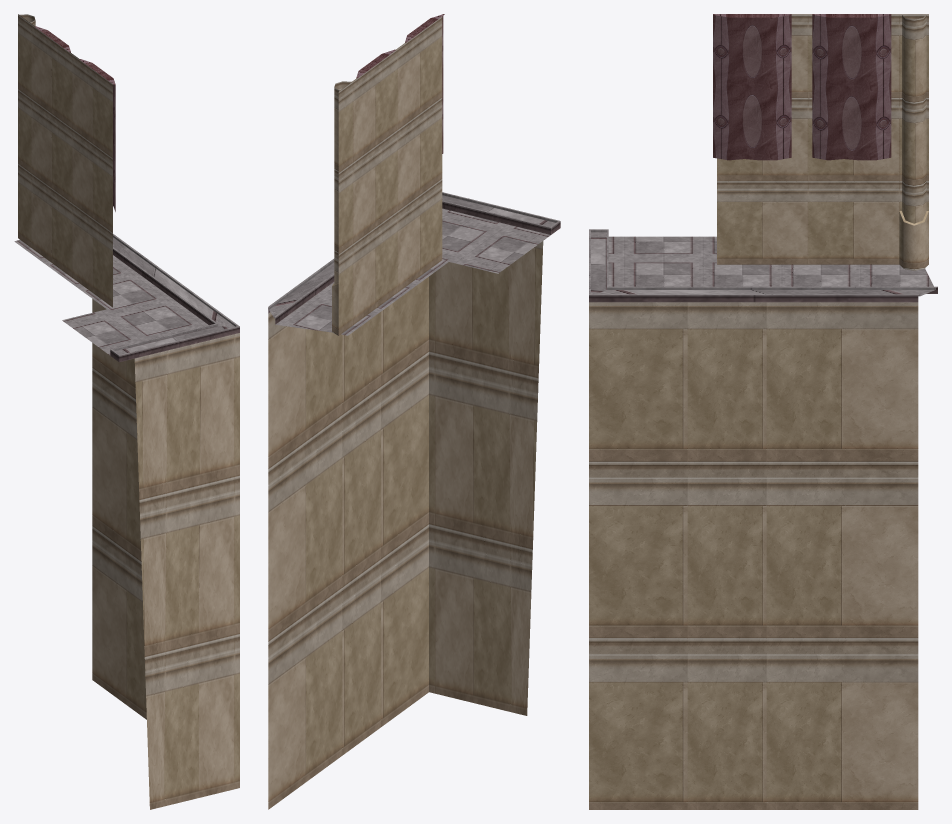
The model's file is Cor1_bldg_walk_young_1.fbx.
The picture shows the model from 3 angles, left to right: view 1: azimuth 30°, elevation 25°; view 2: azimuth 150°, elevation 25°; view 3: azimuth 270°, elevation 25°; orthographic projection. The views are drawn at different scales.
Visible parts, largest first — view 1: walk_youngling_1, polymsh_detached127, polymsh_detached126, polymsh_detached125, polymsh1370; view 2: walk_youngling_1, polymsh_detached127, polymsh_detached126, polymsh_detached125, polymsh1370; view 3: walk_youngling_1, polymsh_detached127, polymsh1370, polymsh_detached126, polymsh_detached125.
Part boxes in pixels (bbox=[...]): walk_youngling_1: bbox=[92, 299, 239, 809]; polymsh_detached127: bbox=[18, 14, 112, 307]; polymsh_detached126: bbox=[14, 240, 208, 355]; polymsh_detached125: bbox=[110, 234, 239, 362]; polymsh1370: bbox=[34, 26, 115, 211]; walk_youngling_1: bbox=[268, 241, 543, 809]; polymsh_detached127: bbox=[332, 17, 442, 335]; polymsh_detached126: bbox=[275, 208, 550, 335]; polymsh_detached125: bbox=[268, 192, 560, 324]; polymsh1370: bbox=[356, 14, 444, 153]; walk_youngling_1: bbox=[589, 302, 918, 809]; polymsh_detached127: bbox=[717, 14, 928, 270]; polymsh1370: bbox=[713, 14, 891, 160]; polymsh_detached126: bbox=[608, 236, 933, 286]; polymsh_detached125: bbox=[589, 229, 937, 302].
Size of what is drawn, in the model's own units: 1577 by 8483 by 3539.
